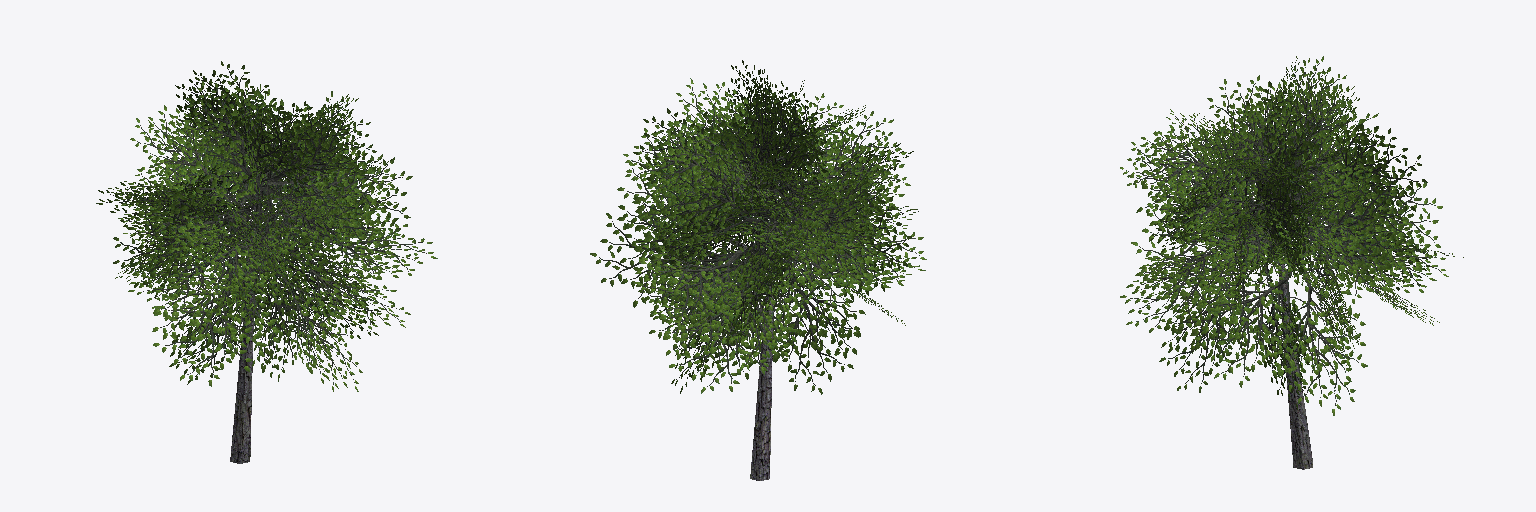
3 views of the same model, side by side, from view 1: azimuth 30°, elevation 25°; view 2: azimuth 150°, elevation 25°; view 3: azimuth 270°, elevation 25° (orthographic).
Parts seen in each view (by area): view 1: Default; view 2: Default; view 3: Default.
Part boxes in pixels (bbox=[...]): Default: bbox=[96, 61, 437, 463]; Default: bbox=[590, 60, 926, 480]; Default: bbox=[1120, 56, 1463, 469].
Bounding box in the file's own units: 13.94 × 16.5 × 14.67.
Materials: 2 (2 with a texture image).